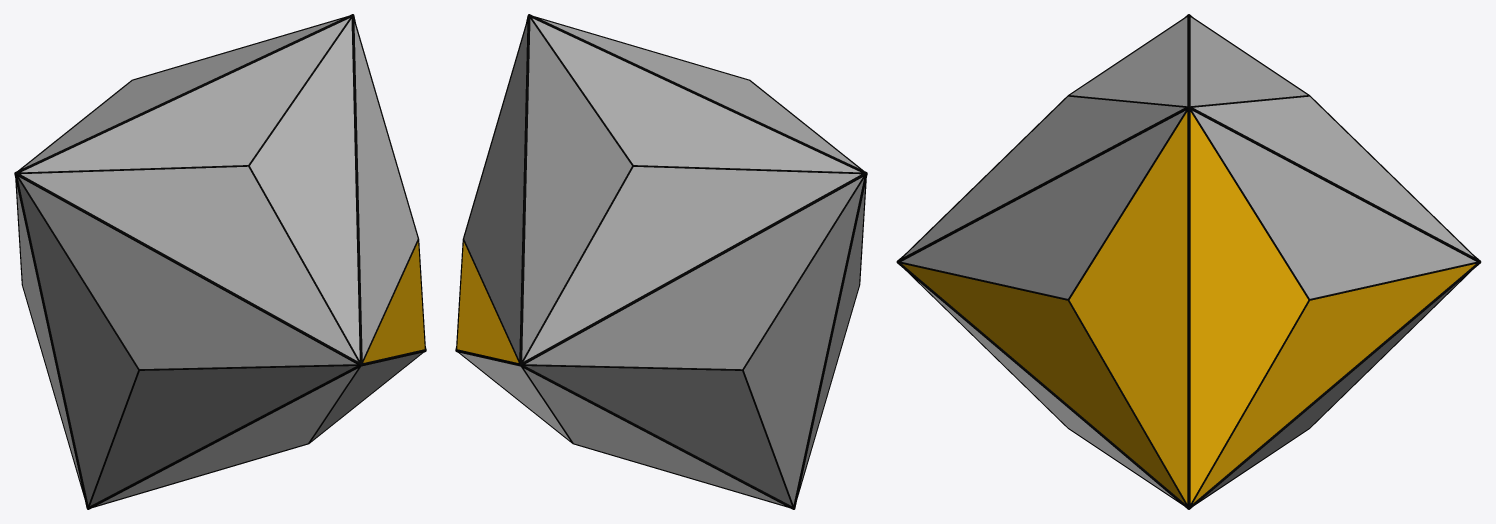
Rendered from polyformsTriOctRot_4_1.glb.
The picture shows the model from 3 angles, left to right: view 1: azimuth 30°, elevation 25°; view 2: azimuth 150°, elevation 25°; view 3: azimuth 270°, elevation 25°; orthographic projection. The views are drawn at different scales.
Size of the model in its own units: 4.08 by 4.08 by 4.85.
